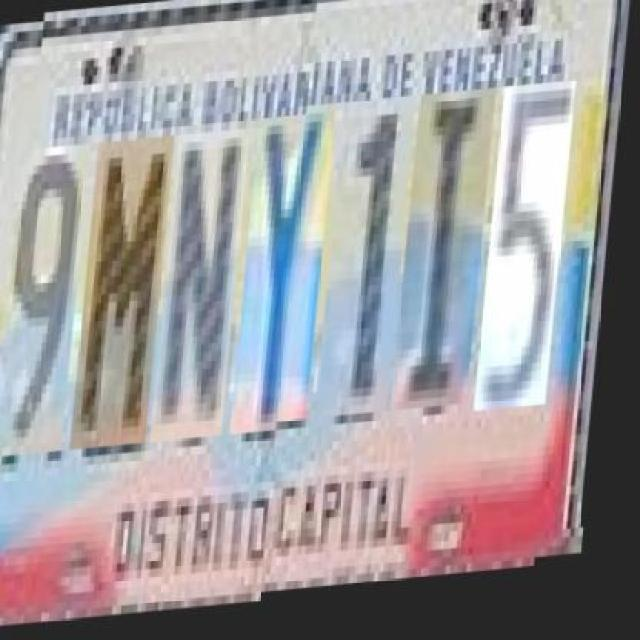1: (323, 104, 419, 425)
5: (482, 90, 580, 422)
9: (0, 137, 94, 449)
i: (399, 98, 499, 420)
m: (79, 130, 179, 444)
n: (159, 125, 255, 437)
y: (239, 110, 339, 432)
